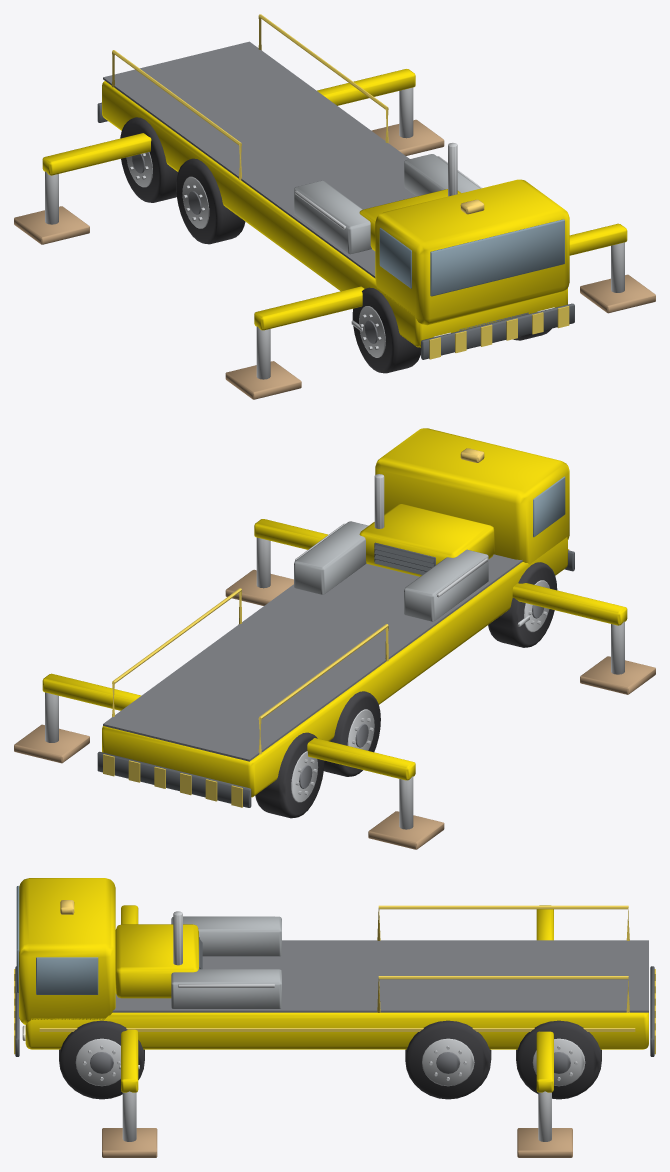
Rendered from crane_carrier.glb.
The picture shows the model from 3 angles, top to bottom: view 1: azimuth 30°, elevation 25°; view 2: azimuth 150°, elevation 25°; view 3: azimuth 270°, elevation 25°; orthographic projection.
Visible parts, largest first — view 1: Body; view 2: Body; view 3: Body.
Boxes of the visible parts, box(x1,y1,x2,y2) form: Body: box(14, 14, 655, 399); Body: box(14, 428, 655, 849); Body: box(14, 878, 655, 1157).
Bounding box in the file's own units: 6.6 × 2.65 × 9.27.
